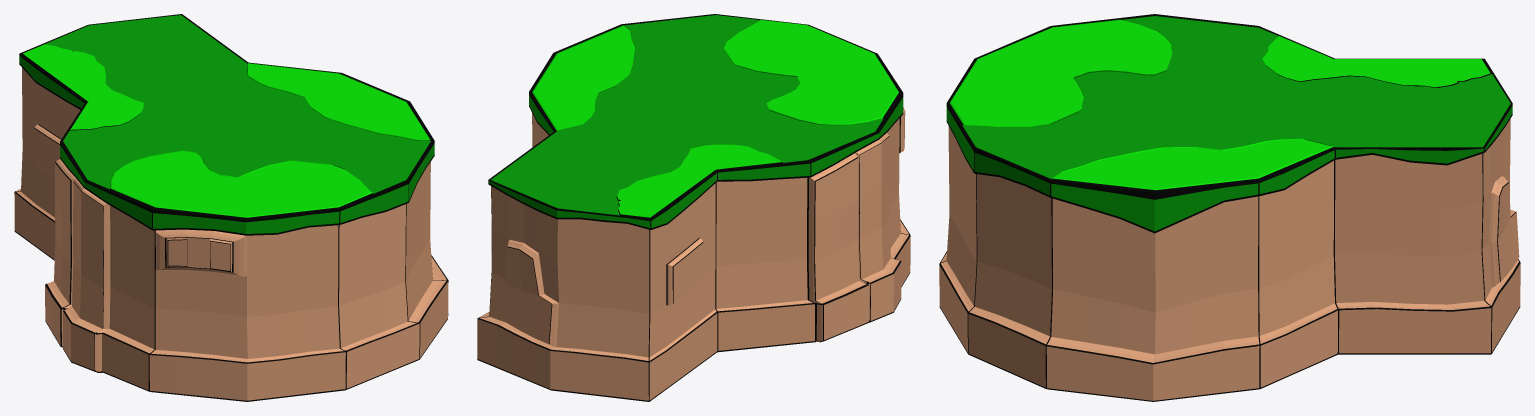
File: CardboardPlatform14.fbx
3 views of the same model, side by side, from view 1: azimuth 30°, elevation 25°; view 2: azimuth 150°, elevation 25°; view 3: azimuth 270°, elevation 25° (orthographic). The views are drawn at different scales.
Parts seen in each view (by area): view 1: Cylinder.008; view 2: Cylinder.008; view 3: Cylinder.008.
Boxes of the visible parts, bbox=[...] form: Cylinder.008: bbox=[14, 14, 448, 401]; Cylinder.008: bbox=[477, 14, 910, 401]; Cylinder.008: bbox=[939, 14, 1520, 401].
Bounding box in the file's own units: 1517 × 749 × 1922.
